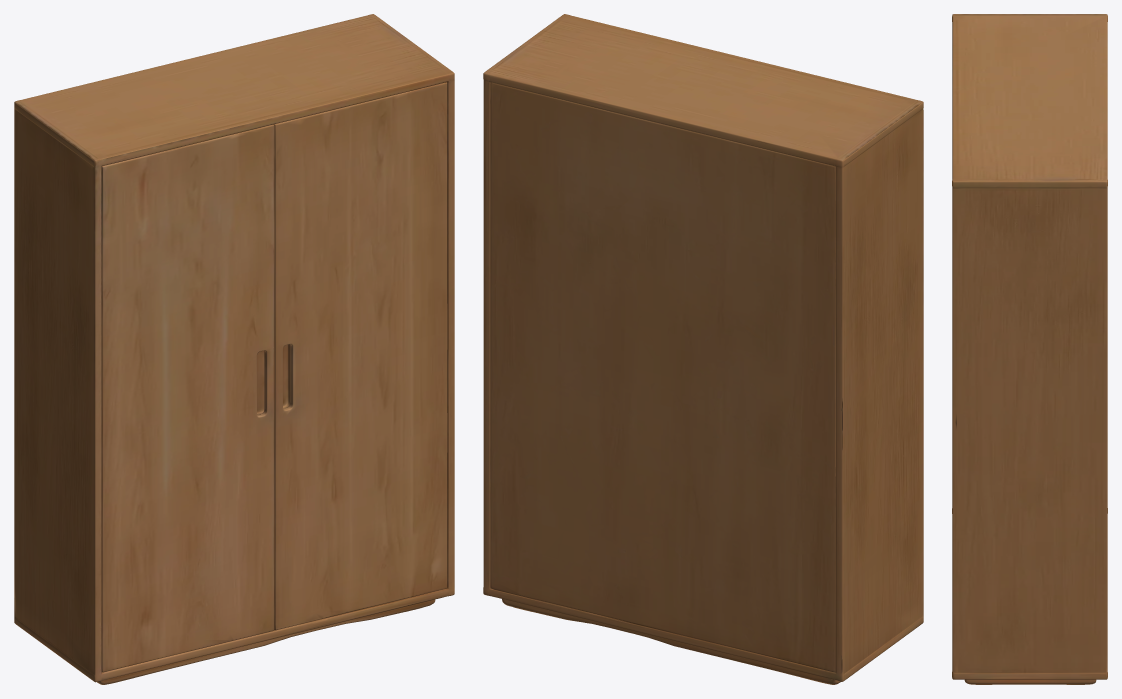
The picture shows the model from 3 angles, left to right: view 1: azimuth 30°, elevation 25°; view 2: azimuth 150°, elevation 25°; view 3: azimuth 270°, elevation 25°; orthographic projection. The views are drawn at different scales.
Parts seen in each view (by area): view 1: material; view 2: material; view 3: material.
Boxes of the visible parts, x1,y1,x2,y2 form: material: (14, 14, 454, 684); material: (483, 14, 923, 684); material: (952, 14, 1107, 684).
Size of the model in its own units: 0.6757 by 0.9584 by 0.265.
1 material, 1 textured.
